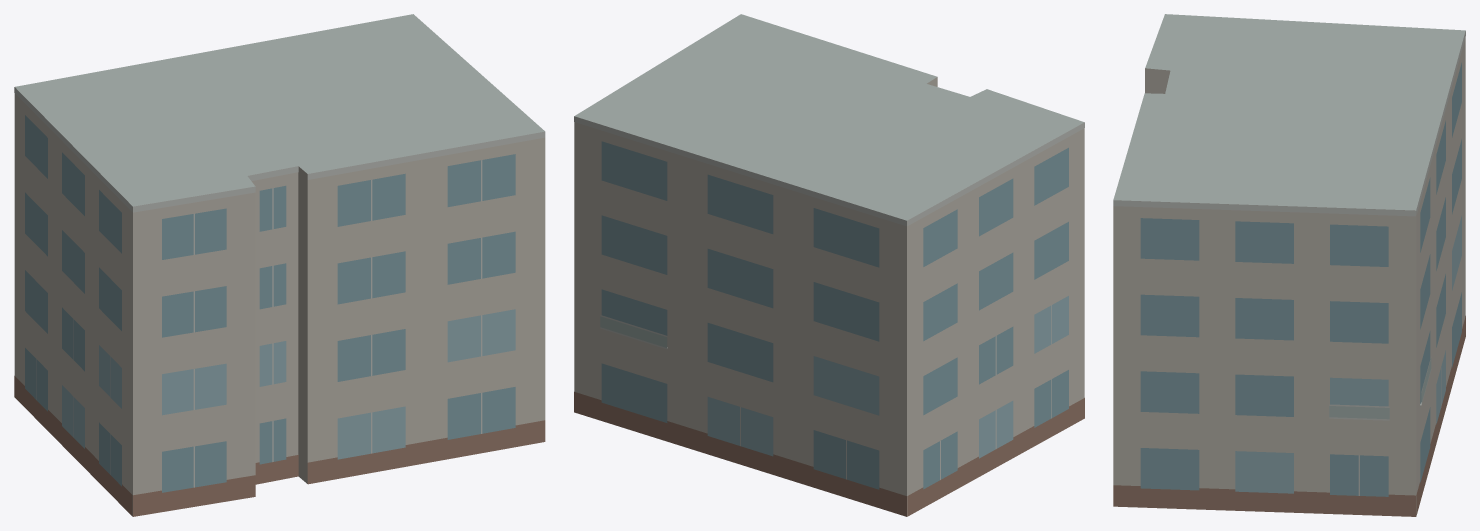
File: survey-upis-32788768.glb
The picture shows the model from 3 angles, left to right: view 1: azimuth 30°, elevation 25°; view 2: azimuth 150°, elevation 25°; view 3: azimuth 270°, elevation 25°; orthographic projection. The views are drawn at different scales.
Parts seen in each view (by area): view 1: survey-upis-32788768.tmp; view 2: survey-upis-32788768.tmp; view 3: survey-upis-32788768.tmp.
Boxes of the visible parts, left/top/right/bottom form: survey-upis-32788768.tmp: left=14, top=14, right=545, bottom=516; survey-upis-32788768.tmp: left=574, top=14, right=1084, bottom=516; survey-upis-32788768.tmp: left=1113, top=14, right=1465, bottom=516.
Bounding box in the file's own units: 17.27 × 12.55 × 13.1.
